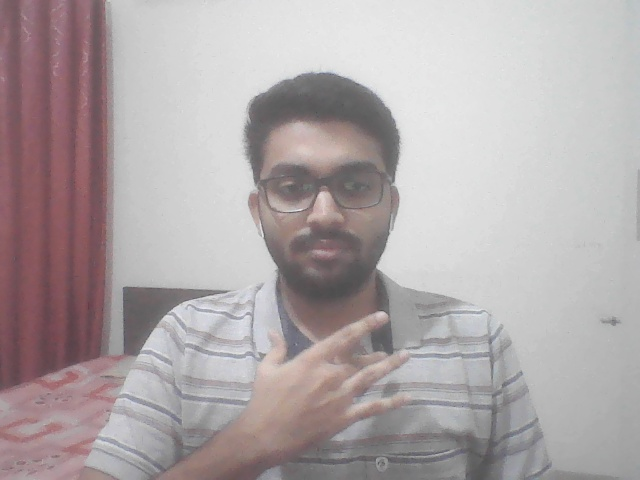like: (218, 305, 428, 467)
